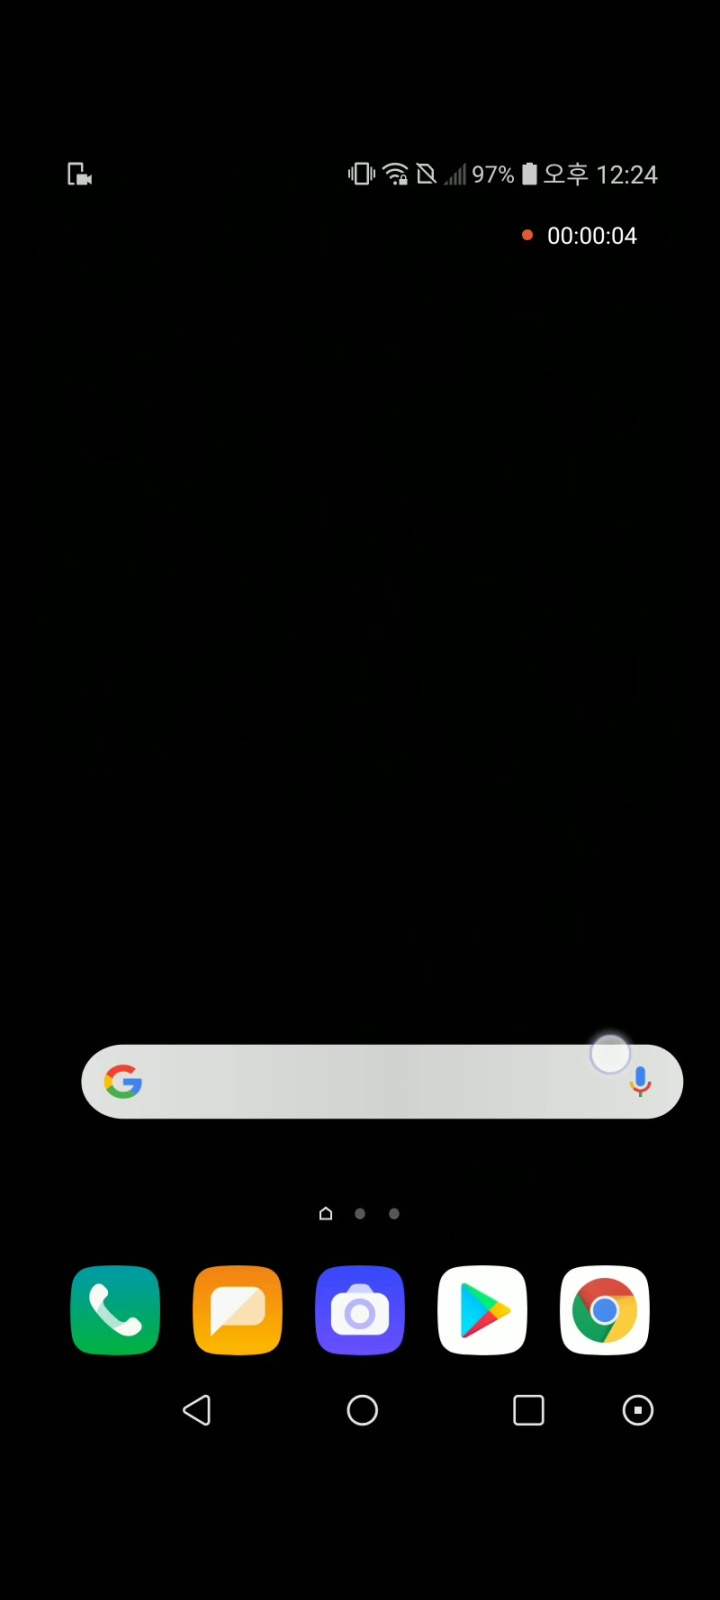Cursor: (588, 1033, 633, 1078)
